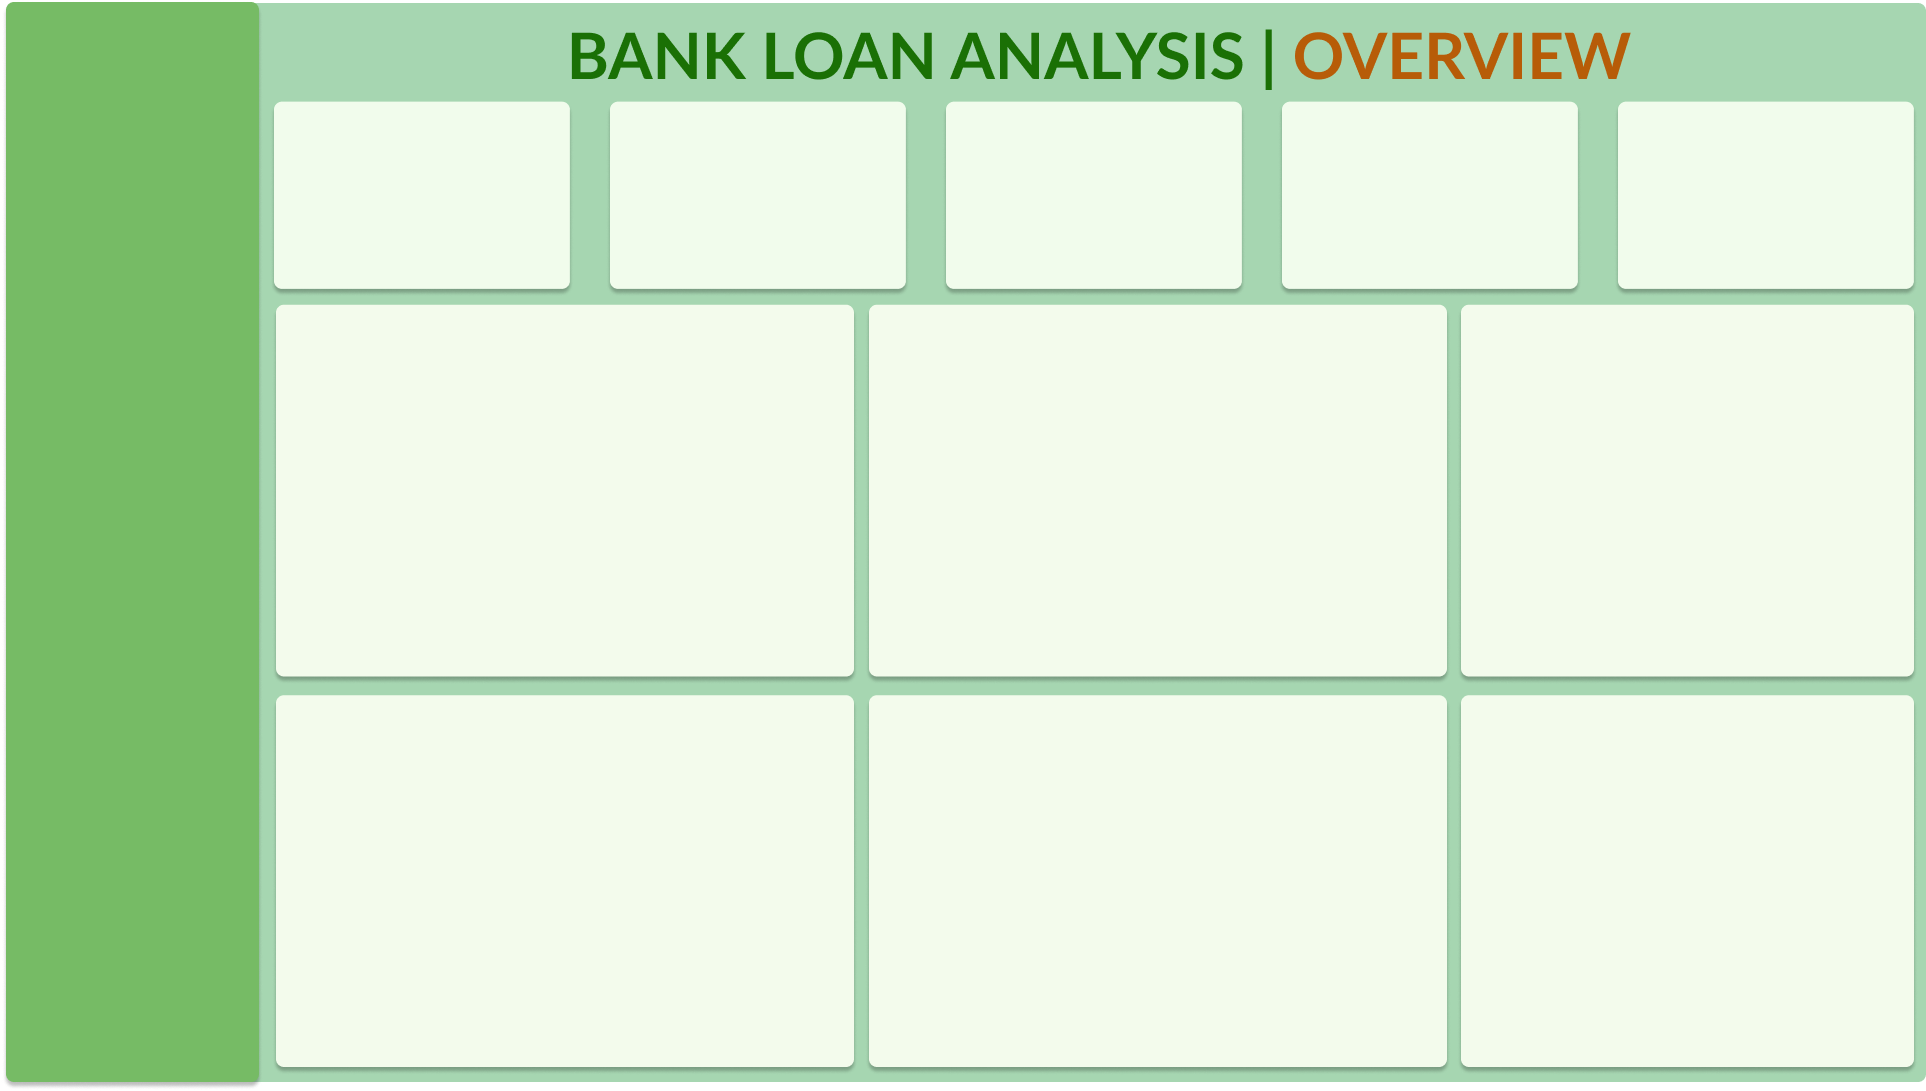

The dashboard page shown, as its layout file describes it:
{"tool":"tableau","page":{"name":"Overview","canvas":[1600,900],"ordinal":1},"visuals":[{"type":"image","param":"Image/Page 2.png","box":[8,8,1584,884]},{"type":"image","param":"Image/bank-svgrepo-com.svg","box":[47,28,172,169]},{"type":"worksheet","title":"Total Funded Amount","mark":"Automatic","box":[519,96,232,75]},{"type":"worksheet","title":"Total Amount Recieved","mark":"Automatic","box":[788,96,234,71]},{"type":"worksheet","title":"Average Interest Rate","mark":"Automatic","box":[1058,96,232,70]},{"type":"worksheet","title":"Avg Debt-Income Ratio","mark":"Automatic","box":[1328,96,232,71]},{"type":"worksheet","title":"Total Loan Applications","mark":"Automatic","box":[249,97,232,74]},{"type":"text","box":[536,178,45,30]},{"type":"text","box":[260,179,45,30]},{"type":"text","box":[694,179,45,30]},{"type":"text","box":[1071,179,45,30]},{"type":"text","box":[800,180,45,30]},{"type":"text","box":[1239,180,45,30]},{"type":"text","box":[426,181,45,30]},{"type":"text","box":[967,181,45,30]},{"type":"text","box":[1509,182,45,30]},{"type":"text","box":[1337,183,45,30]},{"type":"image","param":"Image/Picture6.png","box":[1424,184,45,47]},{"type":"image","param":"Image/Picture5.png","box":[1157,185,47,47]},{"type":"image","param":"Image/Picture3.png","box":[614,186,45,46]},{"type":"image","param":"Image/Picture4.png","box":[890,186,44,46]},{"type":"image","param":"Image/Picture1.png","box":[350,190,39,40]},{"type":"worksheet","title":"MTD Total Loan Applications","mark":"Automatic","box":[244,194,76,46]},{"type":"worksheet","title":"MoM Loan Applications","mark":"Automatic","box":[416,194,72,46]},{"type":"worksheet","title":"MTD Total Funded Amount","mark":"Automatic","box":[524,198,73,36]},{"type":"worksheet","title":"MoM Total Funded Amount","mark":"Automatic","box":[688,198,62,36]},{"type":"worksheet","title":"MTD Total Amount Recieved","mark":"Automatic","box":[788,200,75,36]},{"type":"worksheet","title":"MTD Avg Interest Rate","mark":"Automatic","box":[1068,200,59,39]},{"type":"worksheet","title":"MoM Avg Interest Rate","mark":"Automatic","box":[1236,201,62,36]},{"type":"worksheet","title":"MTD Avg DTI","mark":"Automatic","box":[1327,201,67,38]},{"type":"worksheet","title":"MoM Total Amount Recieved","mark":"Automatic","box":[959,203,68,33]},{"type":"worksheet","title":"MoM Avg DTI","mark":"Automatic","box":[1500,203,66,33]},{"type":"worksheet","title":"Month","mark":"Area","rows":["Calculation_987132801868750880","Calculation_987132801868750880"],"cols":["issue_date"],"box":[251,259,458,292]},{"type":"worksheet","title":"Term","mark":"Pie","rows":["Calculation_987132801874812962","Calculation_987132801874845732"],"box":[1202,259,359,293]},{"type":"worksheet","title":"State","mark":"Multipolygon","box":[726,260,460,291]},{"type":"dashboard-object","box":[52,261,164,52]},{"type":"dashboard-object","box":[52,324,164,52]},{"type":"dashboard-object","box":[52,386,164,52]},{"type":"parameter","param":"[Parameters].[Parameter 1]","box":[42,530,182,48]},{"type":"legend","title":"Term","param":"[federated.0sfkk7x1b2yyio0zo84341g16opc].[none:term:nk]","box":[1273,533,245,21]},{"type":"worksheet","title":"Employment Duration","mark":"Automatic","rows":["emp_length"],"cols":["Calculation_987132801868750880"],"box":[251,573,458,292]},{"type":"worksheet","title":"Home Ownsership","mark":"Automatic","box":[1202,573,357,293]},{"type":"worksheet","title":"Purpose","mark":"Automatic","rows":["purpose"],"cols":["Calculation_987132801868750880"],"box":[726,574,460,292]},{"type":"filter","title":"Avg Debt-Income Ratio","param":"[federated.0sfkk7x1b2yyio0zo84341g16opc].[none:purpose:nk]","box":[40,595,185,58]},{"type":"filter","title":"Avg Debt-Income Ratio","param":"[federated.0sfkk7x1b2yyio0zo84341g16opc].[none:grade:nk]","box":[40,662,184,54]},{"type":"filter","title":"Avg Debt-Income Ratio","param":"[federated.0sfkk7x1b2yyio0zo84341g16opc].[none:verification_status:nk]","box":[40,726,183,53]}]}

Visuals, with their boxes in screenshot pixels (x1, y1, x2, y2), scaled from the page's 1600x900 canvas onto the 1926x1091 screenshot:
image: bbox(10, 10, 1916, 1081)
image: bbox(57, 34, 264, 239)
"Total Funded Amount" worksheet: bbox(625, 116, 904, 207)
"Total Amount Recieved" worksheet: bbox(949, 116, 1230, 202)
"Average Interest Rate" worksheet: bbox(1274, 116, 1553, 201)
"Avg Debt-Income Ratio" worksheet: bbox(1599, 116, 1878, 202)
"Total Loan Applications" worksheet: bbox(300, 118, 579, 207)
text: bbox(645, 216, 699, 252)
text: bbox(313, 217, 367, 253)
text: bbox(835, 217, 890, 253)
text: bbox(1289, 217, 1343, 253)
text: bbox(963, 218, 1017, 255)
text: bbox(1491, 218, 1546, 255)
text: bbox(513, 219, 567, 256)
text: bbox(1164, 219, 1218, 256)
text: bbox(1816, 221, 1871, 257)
text: bbox(1609, 222, 1664, 258)
image: bbox(1714, 223, 1768, 280)
image: bbox(1393, 224, 1449, 281)
image: bbox(739, 225, 793, 281)
image: bbox(1071, 225, 1124, 281)
image: bbox(421, 230, 468, 279)
"MTD Total Loan Applications" worksheet: bbox(294, 235, 385, 291)
"MoM Loan Applications" worksheet: bbox(501, 235, 587, 291)
"MTD Total Funded Amount" worksheet: bbox(631, 240, 719, 284)
"MoM Total Funded Amount" worksheet: bbox(828, 240, 903, 284)
"MTD Total Amount Recieved" worksheet: bbox(949, 242, 1039, 286)
"MTD Avg Interest Rate" worksheet: bbox(1286, 242, 1357, 290)
"MoM Avg Interest Rate" worksheet: bbox(1488, 244, 1562, 287)
"MTD Avg DTI" worksheet: bbox(1597, 244, 1678, 290)
"MoM Total Amount Recieved" worksheet: bbox(1154, 246, 1236, 286)
"MoM Avg DTI" worksheet: bbox(1806, 246, 1885, 286)
"Month" worksheet (Area marks): bbox(302, 314, 853, 668)
"Term" worksheet (Pie marks): bbox(1447, 314, 1879, 669)
"State" worksheet (Multipolygon marks): bbox(874, 315, 1428, 668)
dashboard-object: bbox(63, 316, 260, 379)
dashboard-object: bbox(63, 393, 260, 456)
dashboard-object: bbox(63, 468, 260, 531)
parameter: bbox(51, 642, 270, 701)
"Term" legend: bbox(1532, 646, 1827, 672)
"Employment Duration" worksheet: bbox(302, 695, 853, 1049)
"Home Ownsership" worksheet: bbox(1447, 695, 1877, 1050)
"Purpose" worksheet: bbox(874, 696, 1428, 1050)
"Avg Debt-Income Ratio" filter: bbox(48, 721, 271, 792)
"Avg Debt-Income Ratio" filter: bbox(48, 802, 270, 868)
"Avg Debt-Income Ratio" filter: bbox(48, 880, 268, 944)
